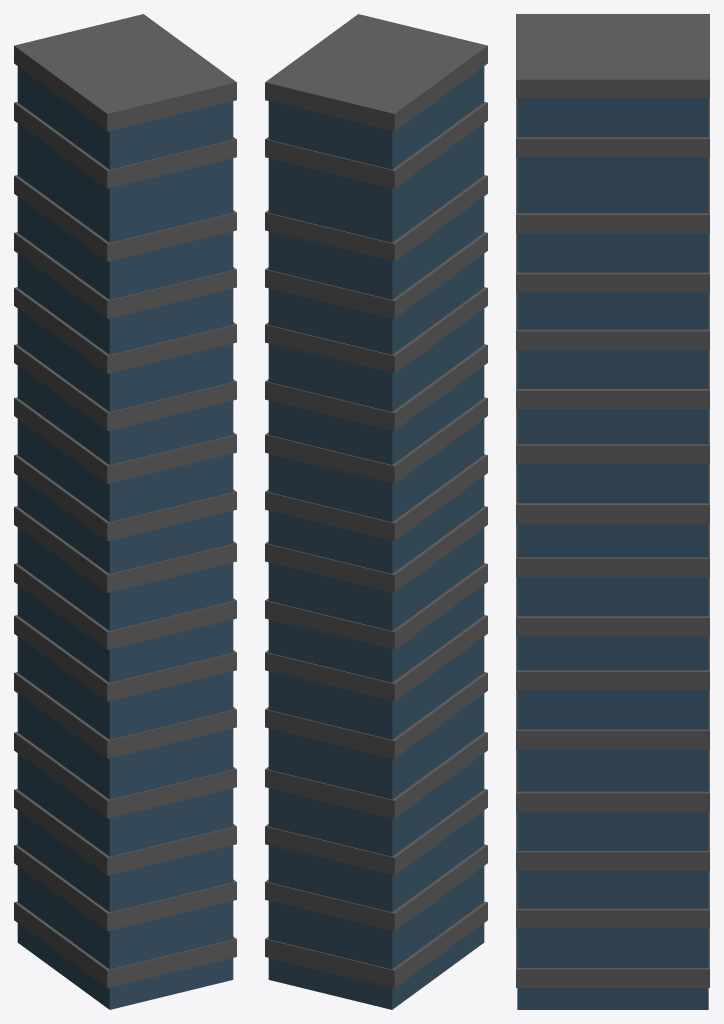
File: building_Glass.fbx
3 renders of one model, left to right at view 1: azimuth 30°, elevation 25°; view 2: azimuth 150°, elevation 25°; view 3: azimuth 270°, elevation 25°, orthographic. The views are drawn at different scales.
Visible parts, largest first — view 1: pasted__pasted__pCube18; view 2: pasted__pasted__pCube18; view 3: pasted__pasted__pCube18.
Boxes of the visible parts, <box> form: pasted__pasted__pCube18: <box>14,14,236,1009</box>; pasted__pasted__pCube18: <box>265,14,487,1009</box>; pasted__pasted__pCube18: <box>516,14,709,1009</box>.
Bounding box in the file's own units: 180286 × 1192779 × 224958.
